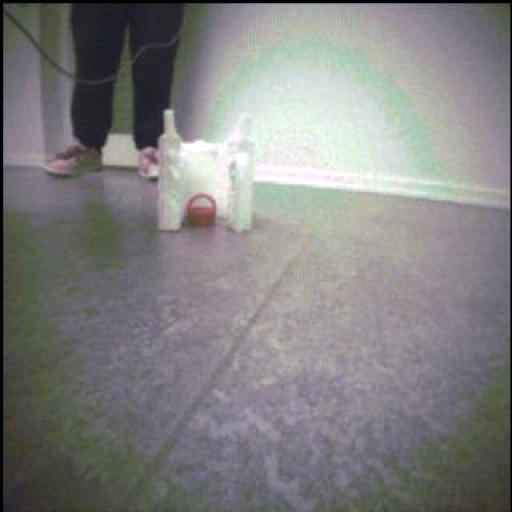Bucket: (184, 190, 218, 233)
